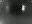person: (22, 4, 28, 15), (5, 6, 11, 15)
